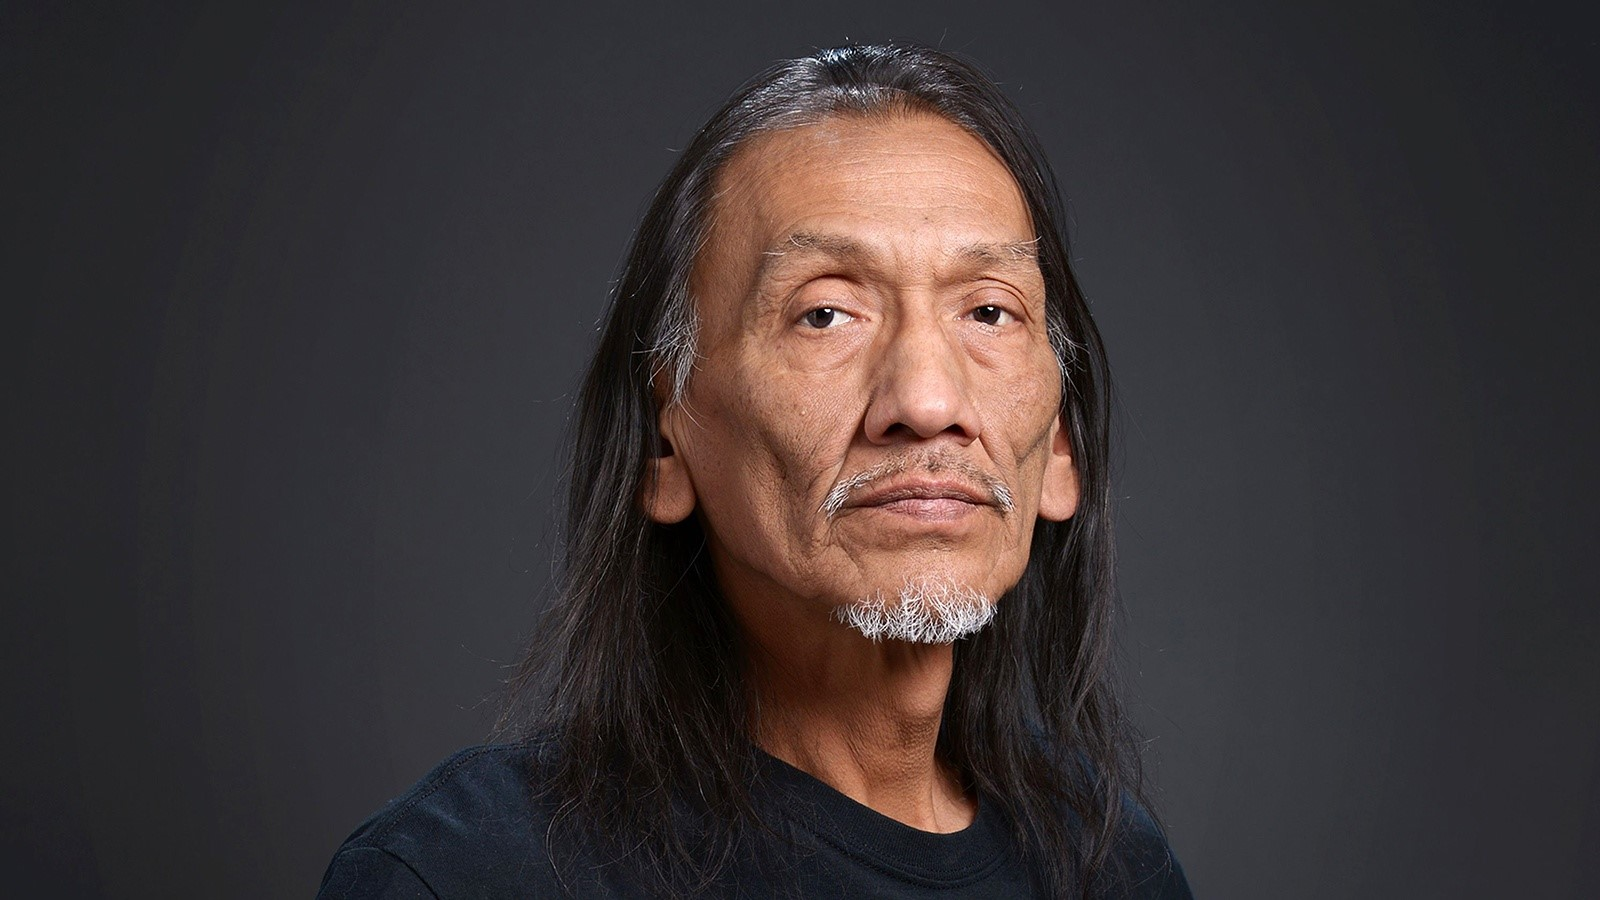face_no_mask: (623, 44, 1090, 635)
